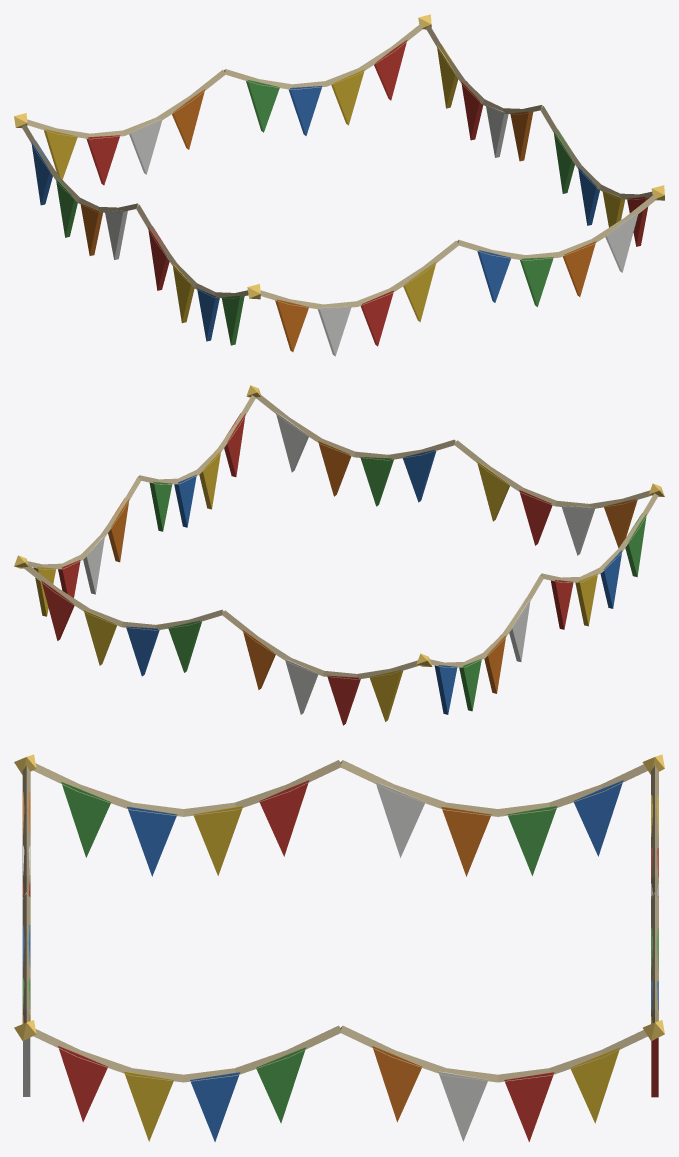
File: gd_balloon_flags.glb
3 views of the same model, one above another, from view 1: azimuth 30°, elevation 25°; view 2: azimuth 150°, elevation 25°; view 3: azimuth 270°, elevation 25° (orthographic). The views are drawn at different scales.
Parts seen in each view (by area): view 1: base; view 2: base; view 3: base.
Part boxes in pixels (left/top/right/bottom): base: left=14, top=14, right=664, bottom=356; base: left=14, top=385, right=664, bottom=725; base: left=14, top=754, right=664, bottom=1141.
Size of the model in its own units: 0.3542 by 0.0735 by 0.3564.
